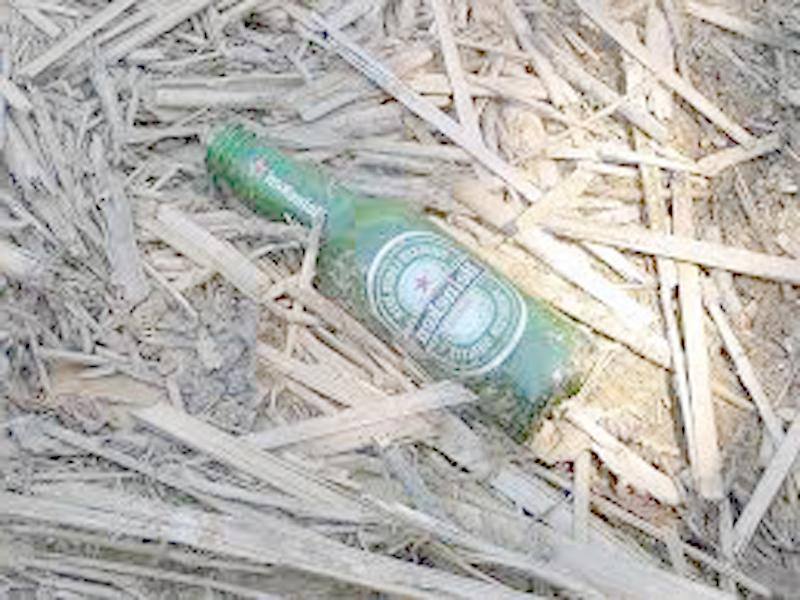Beer: (200, 127, 595, 439)
